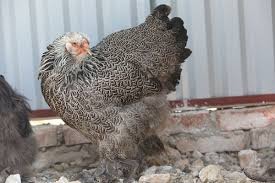Gà/Chicken: (31, 2, 209, 181)
